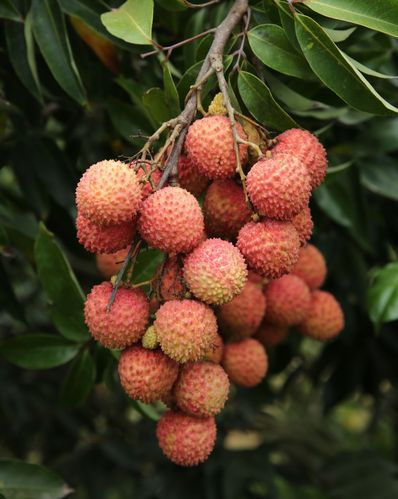litchi: (80, 118, 338, 462)
stem: (182, 1, 247, 111)
